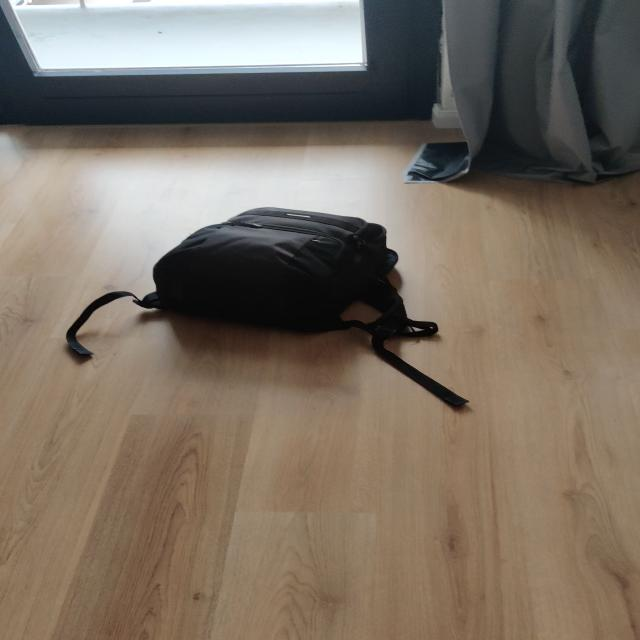backpack: (144, 202, 412, 339)
